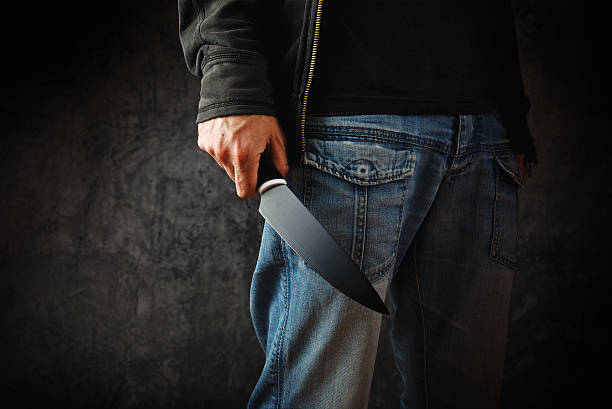knife: (256, 151, 392, 318)
